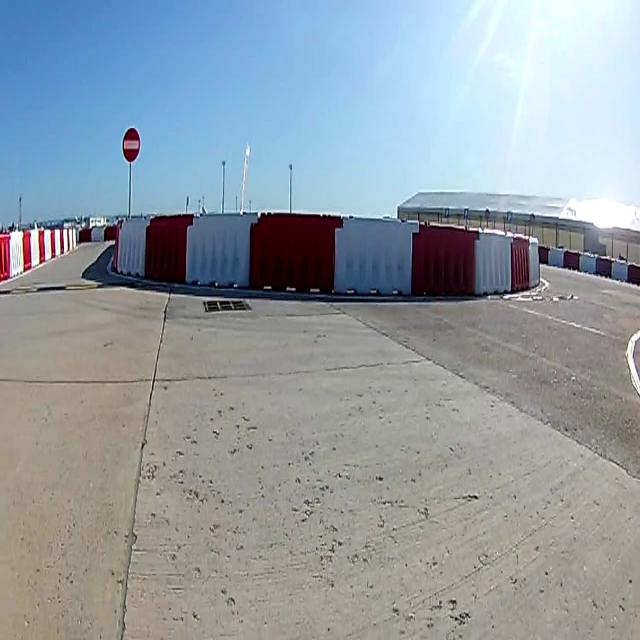girisyok: (123, 128, 141, 161)
